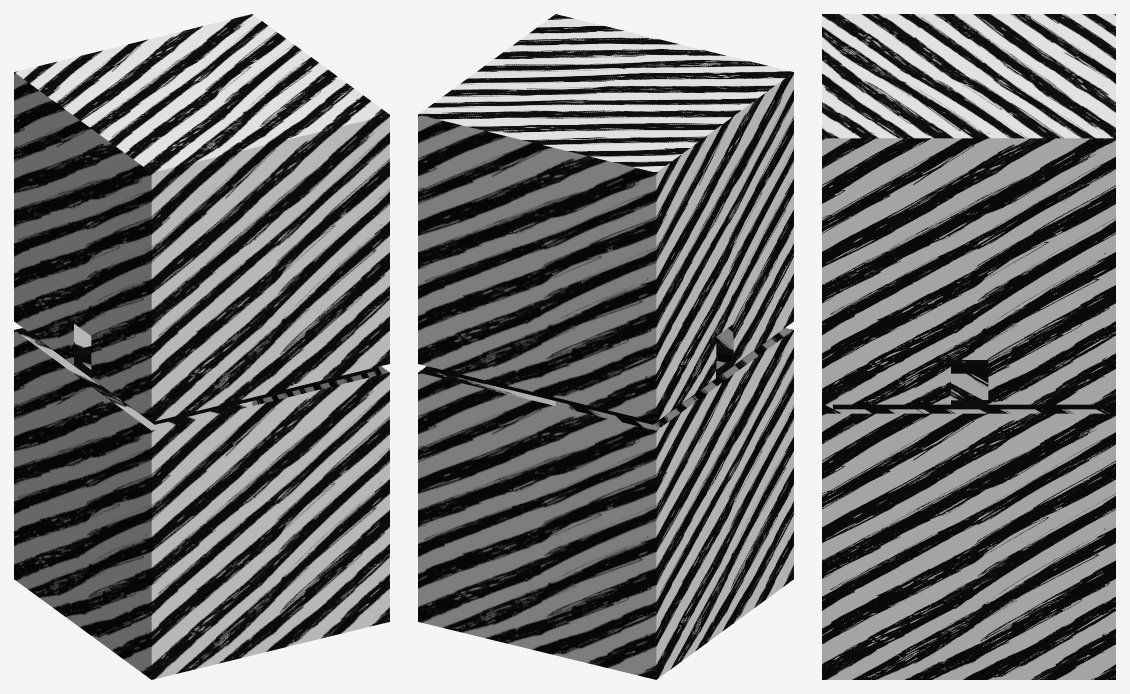
Rendered from Black_Stripes_Rm.fbx.
The picture shows the model from 3 angles, left to right: view 1: azimuth 30°, elevation 25°; view 2: azimuth 150°, elevation 25°; view 3: azimuth 270°, elevation 25°; orthographic projection. The views are drawn at different scales.
Parts seen in each view (by area): view 1: P_Black_Stripes_Rm; view 2: P_Black_Stripes_Rm; view 3: P_Black_Stripes_Rm.
Boxes of the visible parts, box(x1,y1,x2,y2) form: P_Black_Stripes_Rm: box(14, 14, 389, 679); P_Black_Stripes_Rm: box(418, 14, 793, 679); P_Black_Stripes_Rm: box(822, 14, 1115, 679).
Size of the model in its own units: 28.51 by 56.58 by 27.81.
